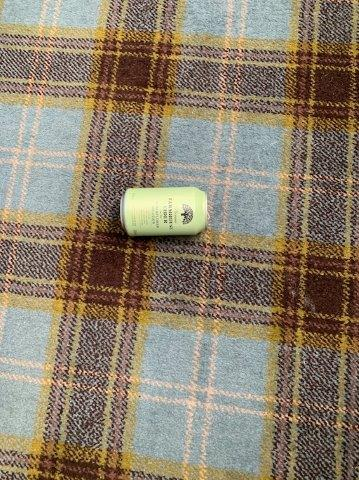kaleng: (121, 188, 207, 234)
